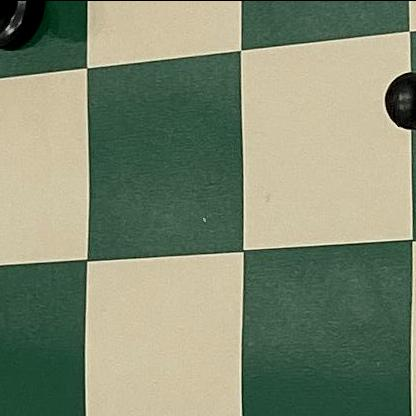black-pawn: (349, 46, 416, 183)
